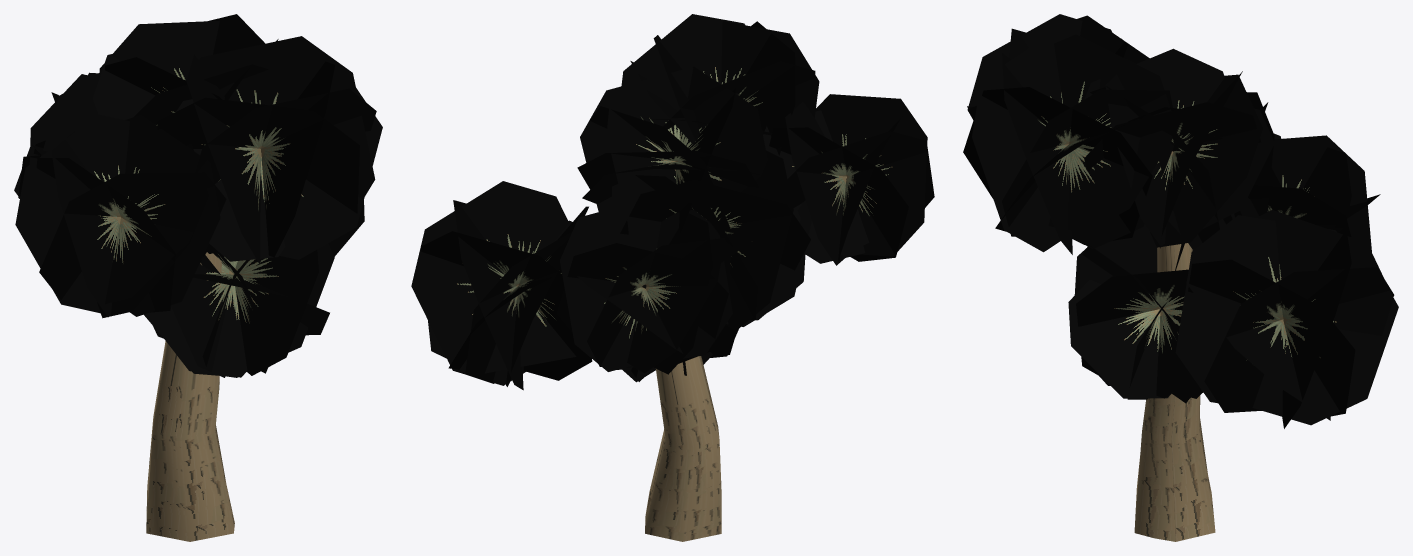
The model's file is rocky-joshua-tree-near.glb.
3 renders of one model, left to right at view 1: azimuth 30°, elevation 25°; view 2: azimuth 150°, elevation 25°; view 3: azimuth 270°, elevation 25°, orthographic. The views are drawn at different scales.
Parts seen in each view (by area): view 1: Rocky Joshua tree near v3 runtime; view 2: Rocky Joshua tree near v3 runtime; view 3: Rocky Joshua tree near v3 runtime.
Part boxes in pixels (left/top/right/bottom): Rocky Joshua tree near v3 runtime: left=14, top=14, right=382, bottom=541; Rocky Joshua tree near v3 runtime: left=411, top=14, right=934, bottom=541; Rocky Joshua tree near v3 runtime: left=963, top=14, right=1398, bottom=541.
Bounding box in the file's own units: 5.81 × 6.16 × 5.21.
Materials: 1 (1 with a texture image).
